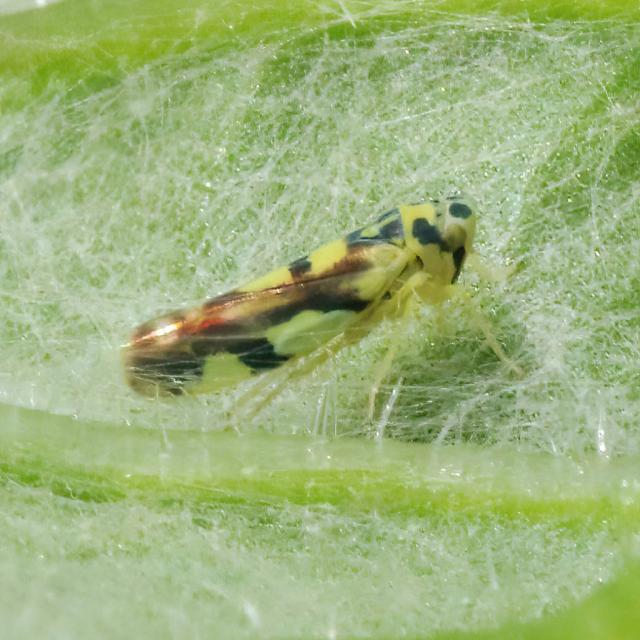Yechan: (105, 183, 497, 431)
